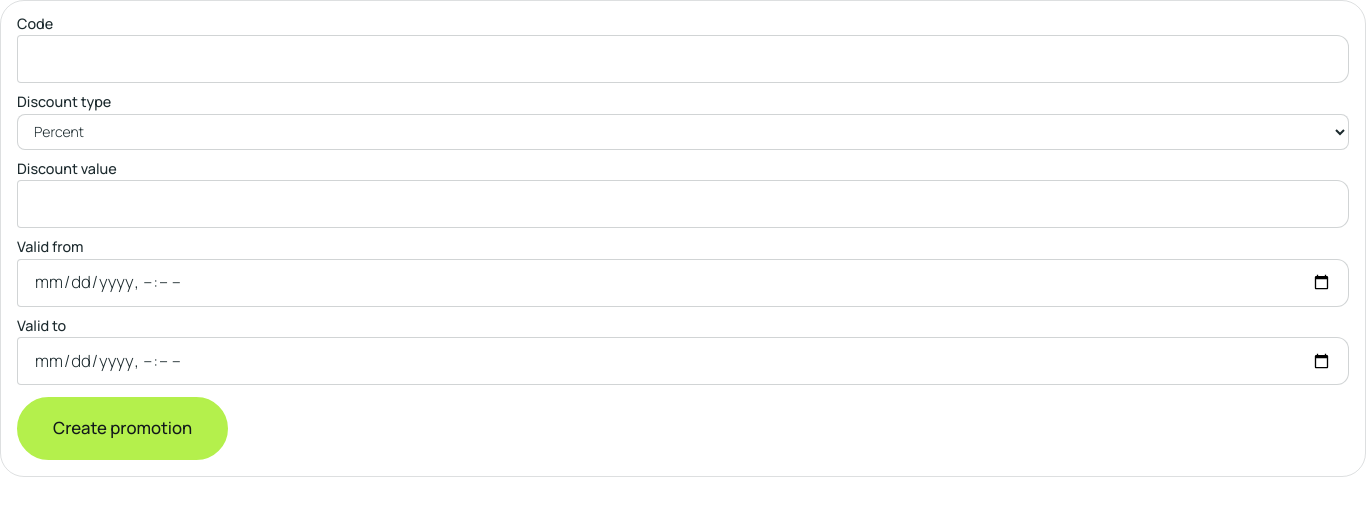
Scenario: PromotionForm › requires a fixed amount above 0
Select "Fixed amount (ETB)" in the dropdown labelled "Discount type" at coordinates (683, 132), box 17,114 -> 1349,150
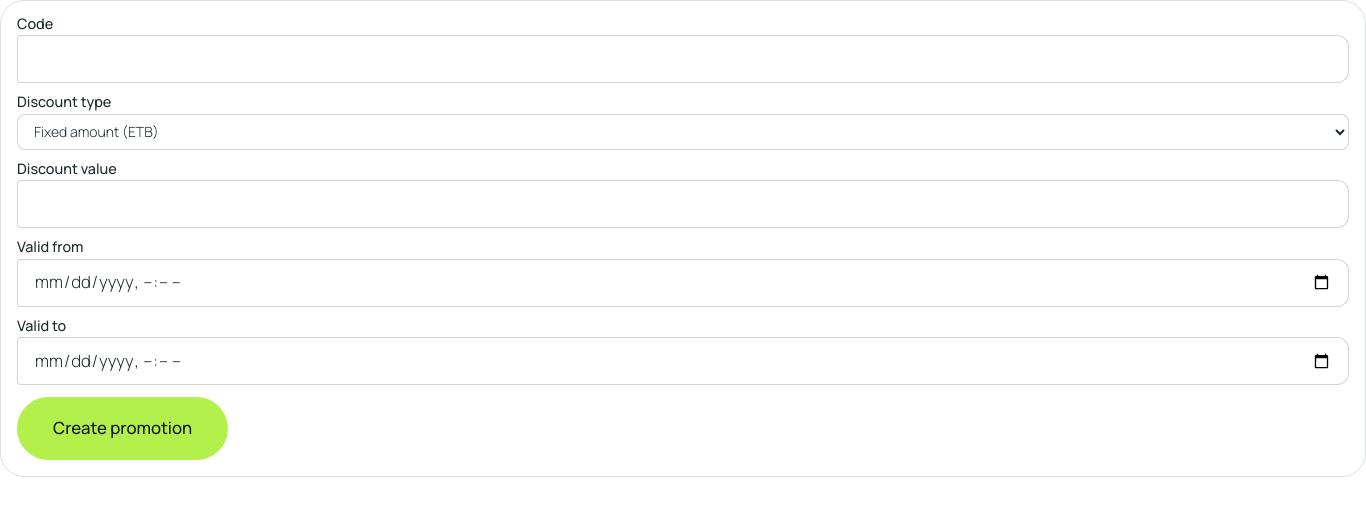
Type "BACK2026" into the field labelled "Code" at coordinates (683, 59), box 17,35 -> 1349,83
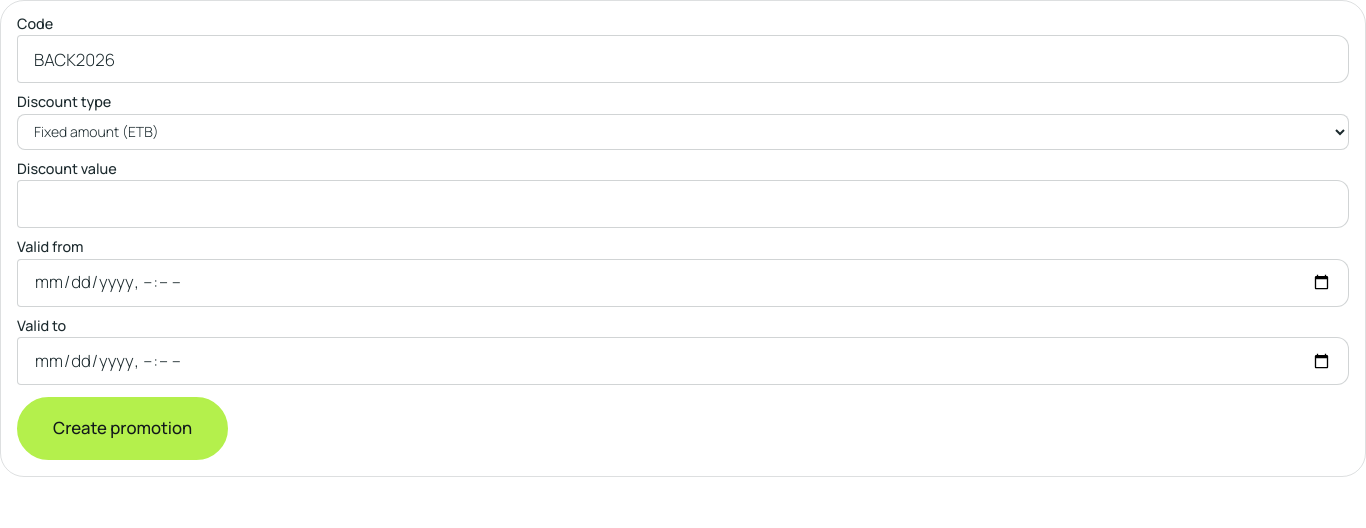
Type "0" into the field labelled "Discount value" at coordinates (683, 204), box 17,180 -> 1349,228
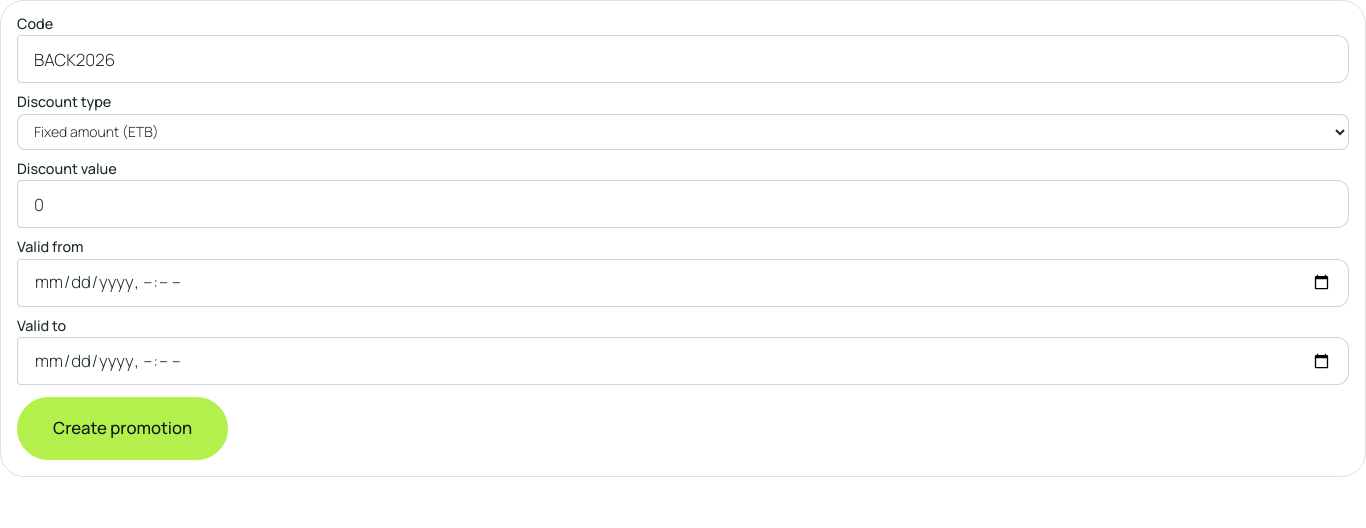
Type "2026-10-01T00:00" into the field labelled "Valid from" at coordinates (683, 283), box 17,259 -> 1349,307
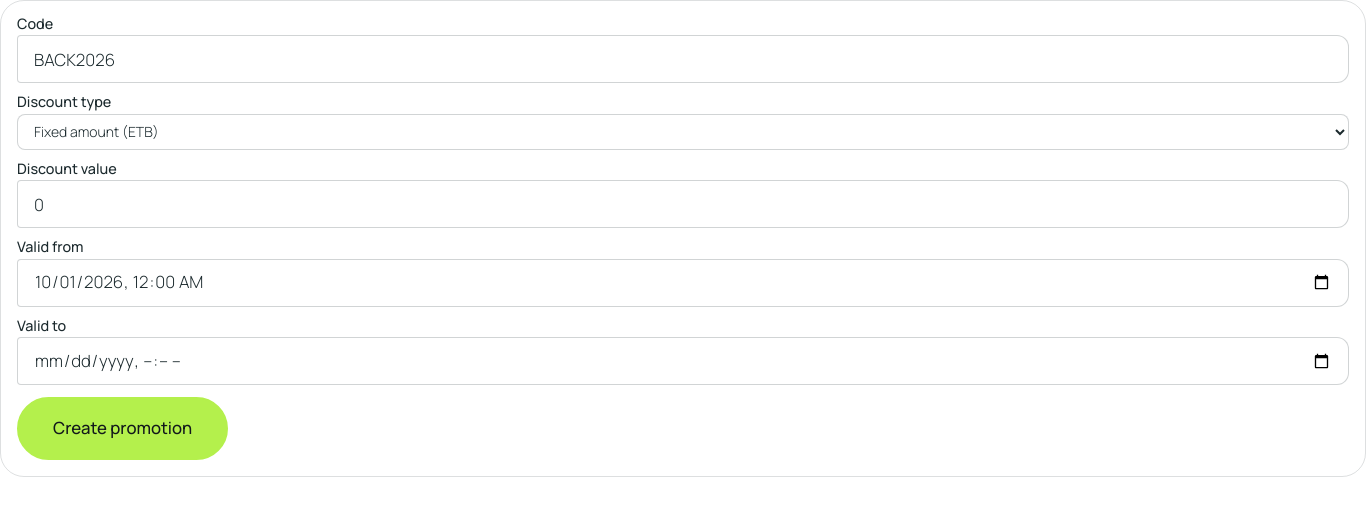
Type "2026-10-31T00:00" into the field labelled "Valid to" at coordinates (683, 361), box 17,337 -> 1349,385
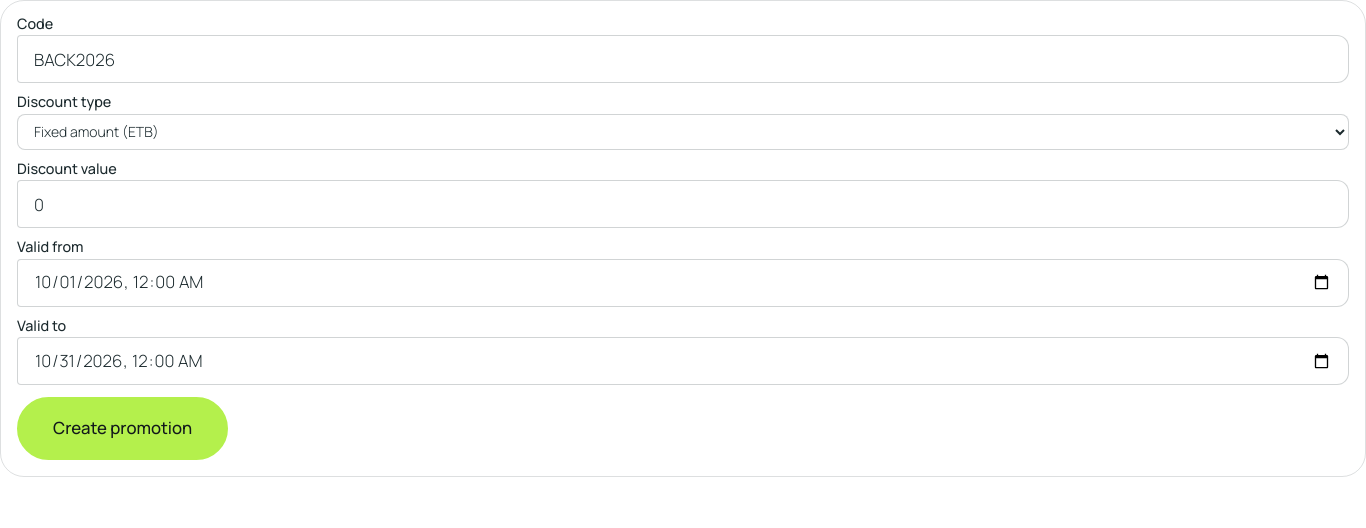
Click the button "Create promotion" at coordinates (123, 428), box 17,397 -> 228,460
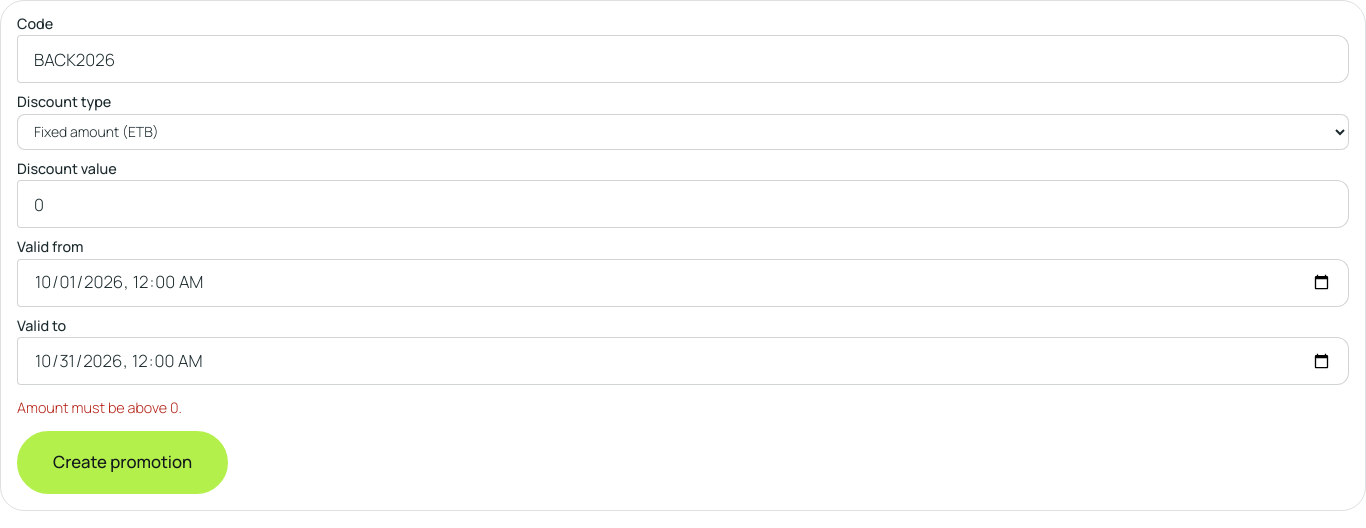
Result: the message reads "Amount must be above 0." at 17,398 -> 182,417
